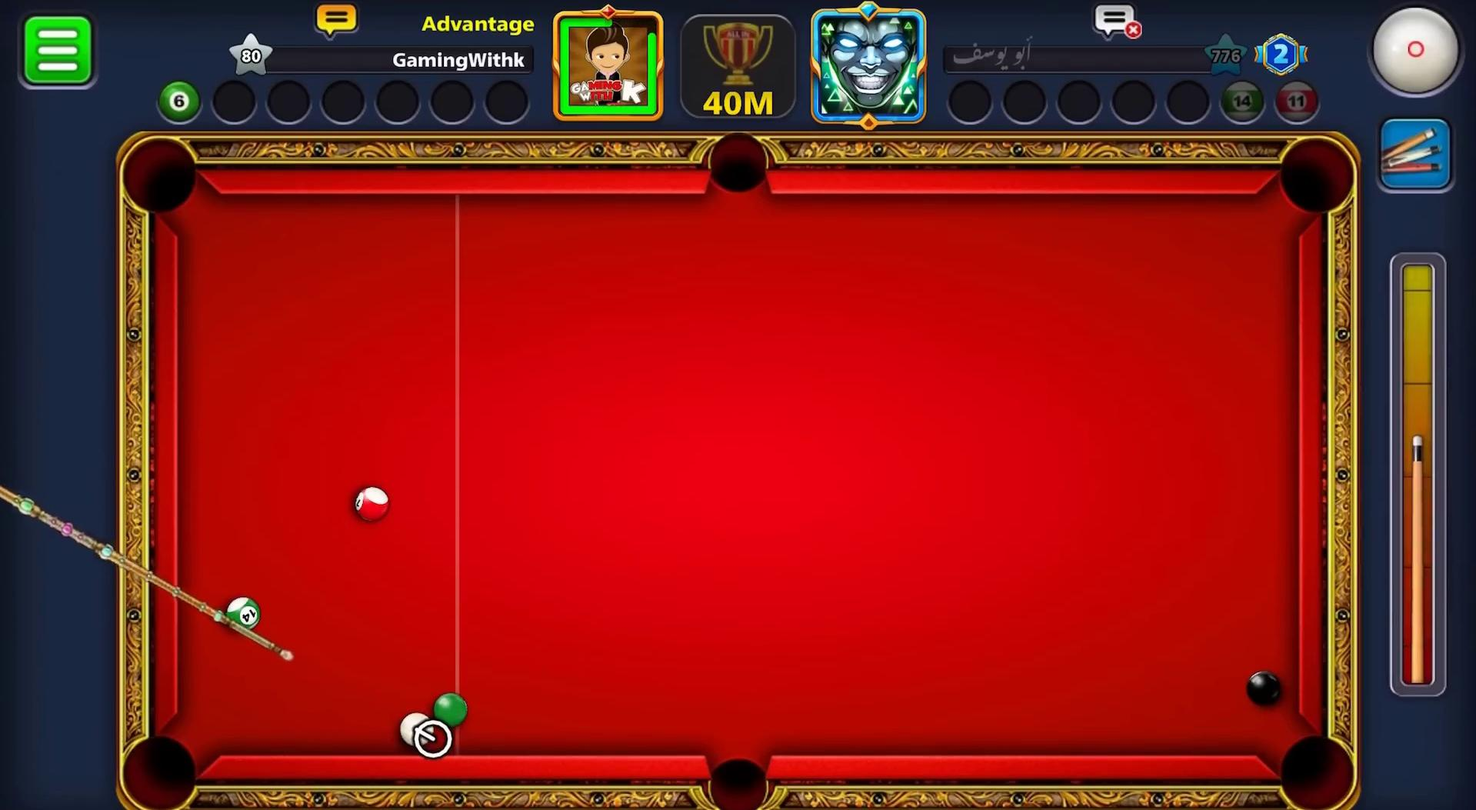Ball: (1239, 664, 1291, 708), (433, 691, 468, 730), (352, 485, 387, 523), (229, 595, 258, 631)
Force: (1388, 257, 1451, 701)
Guideline: (414, 727, 437, 744)
Hole: (1267, 121, 1364, 228), (1260, 719, 1371, 809), (702, 122, 775, 212), (122, 135, 200, 214), (122, 732, 199, 809), (704, 755, 771, 809)
Play_Area: (180, 195, 1295, 753)
Spin: (1362, 0, 1475, 106)
White: (396, 708, 443, 753)
